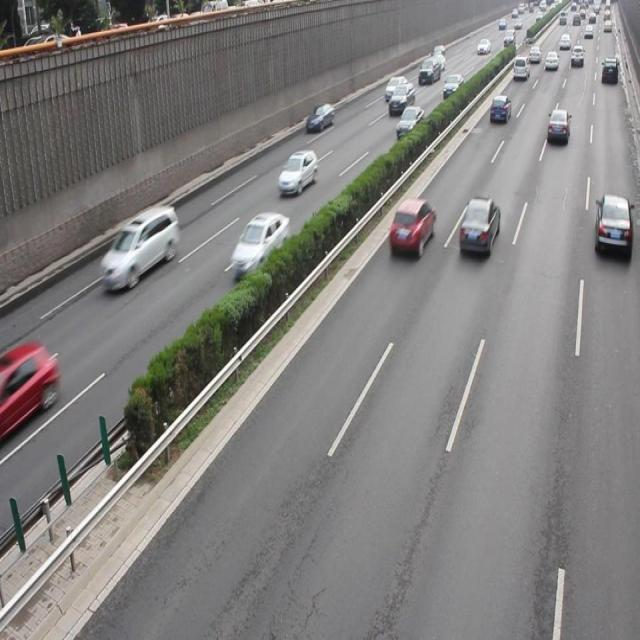car: (98, 203, 178, 291), (0, 343, 62, 436), (232, 211, 290, 281), (388, 198, 434, 255), (459, 195, 499, 254), (594, 191, 629, 258), (279, 150, 316, 196), (385, 82, 414, 115), (305, 102, 334, 133), (396, 104, 424, 136), (545, 106, 568, 143), (489, 93, 511, 125)
